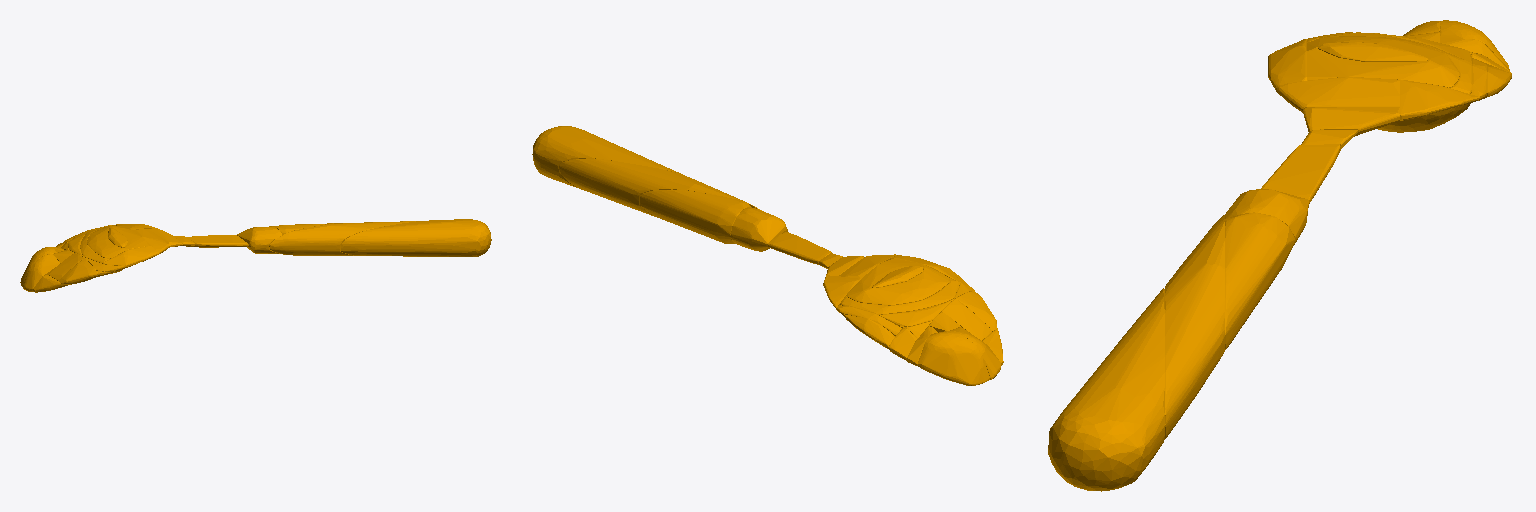
URDF robot description (031_spoon):
<?xml version="1.0" encoding="UTF-8"?>
<robot name="031_spoon">
	<link name="base">
		<collision>
			<geometry>
				<mesh filename="..\vhacd\031_spoon_vhacd.obj" scale="1.0 1.0 1.0"/>
			</geometry>
			<origin xyz="0 0 0"/>
			<contact_coefficients mu="0.24" />
		</collision>
		<visual>
			<geometry>
				<mesh filename="..\vhacd\031_spoon_vhacd.obj" scale="1.0 1.0 1.0"/>
			</geometry>
			<origin xyz="0 0 0"/>
		</visual>
		<inertial>
			<mass value="0"/>
			<inertia ixx="0.0" ixy="0.0" ixz="0.0" iyy="0.0" iyz="-0.0" izz="0.0" />
			<origin xyz="-0.018055917049896515 -0.010160565007460265 0.010048592420698315"/>
		</inertial>
	</link>
</robot>

--- Render facts (derived) ---
Views: 3 orthographic renders of the robot side by side, from view 1: azimuth 30°, elevation 25°; view 2: azimuth 150°, elevation 25°; view 3: azimuth 270°, elevation 25°.
Robot: 031_spoon — 1 links, 0 joints (none); root link base; default pose: all joints at 0.
Visible links, largest first — view 1: base; view 2: base; view 3: base.
Boxes of the visible links, bbox=[...] form: base: bbox=[20, 219, 491, 292]; base: bbox=[532, 126, 1003, 385]; base: bbox=[1048, 20, 1511, 491].
Size in the robot's own frame: 0.1861 by 0.0831 by 0.021 metres.
1 mesh visuals loaded from 1 distinct referenced files (1 OBJ).